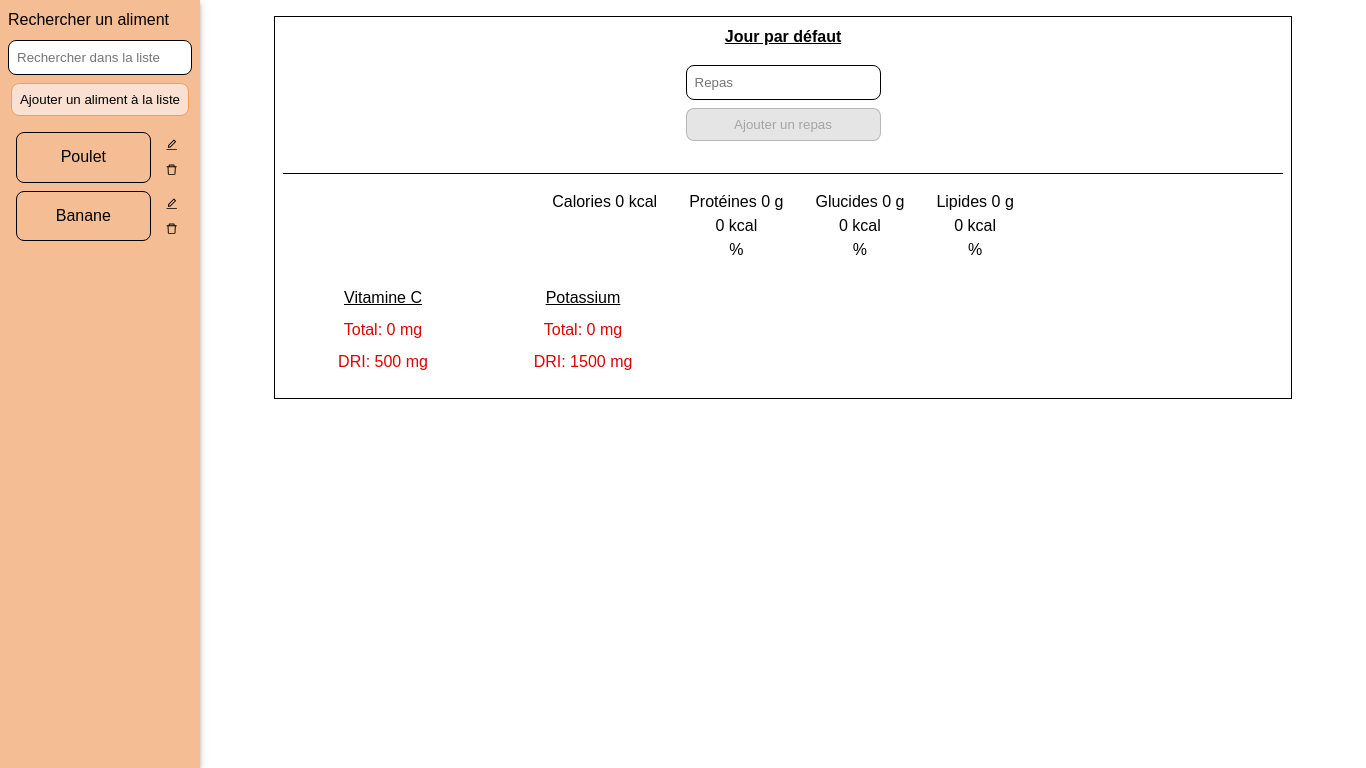
Scenario: Analyse › should disable add food to meal button if the selected food is deleted
Click the text "Banane": [83, 216] box left=56, top=204, right=111, bottom=228
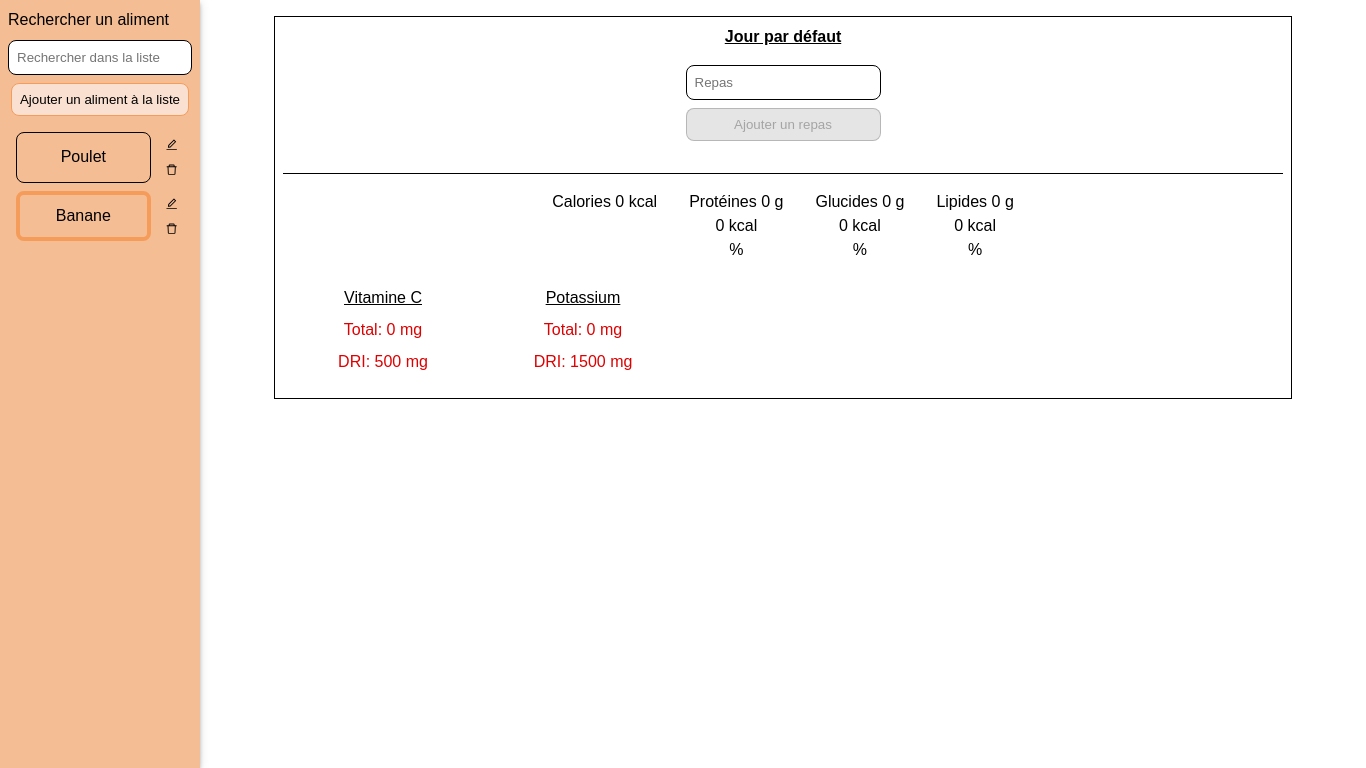
In the field labelled "Repas": [783, 82] box left=686, top=65, right=880, bottom=100, type "déjeuner"
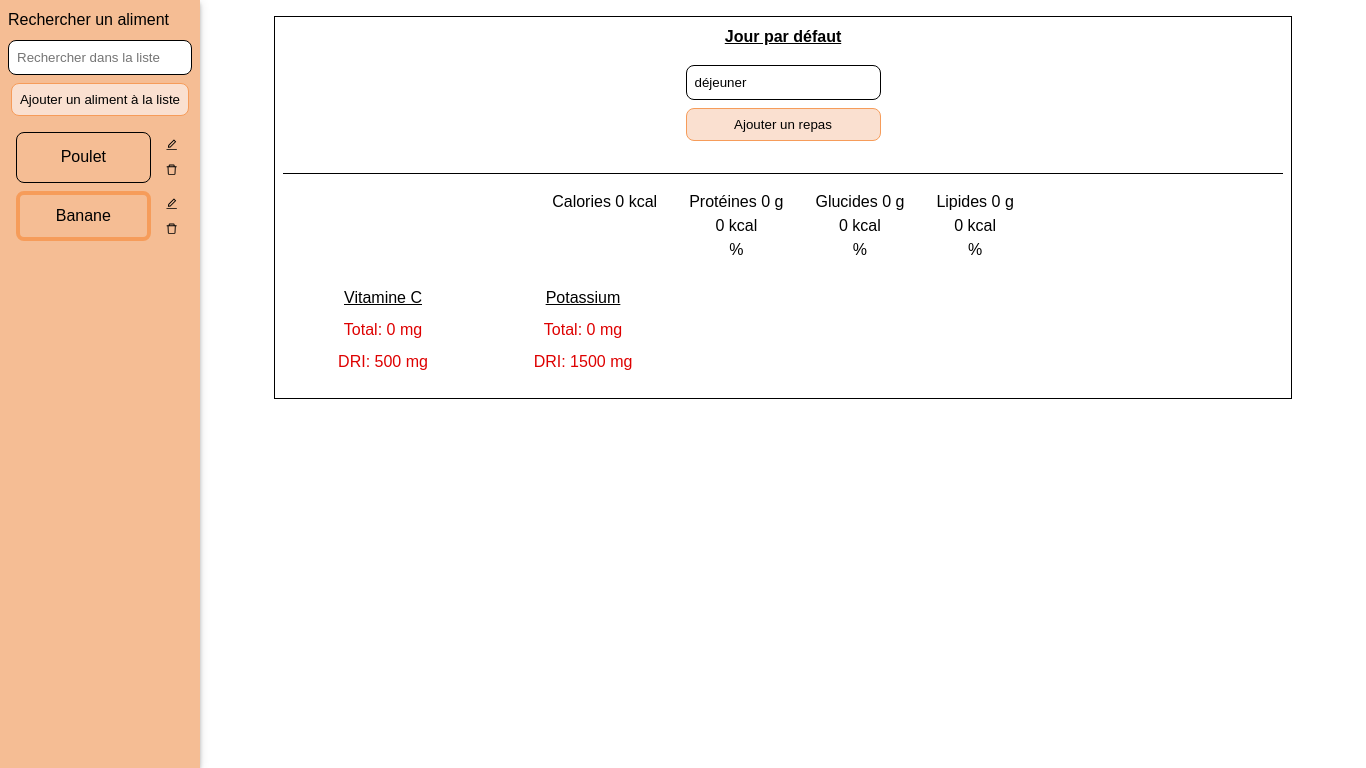
Click the button "Ajouter un repas": [783, 124] box left=686, top=108, right=880, bottom=141
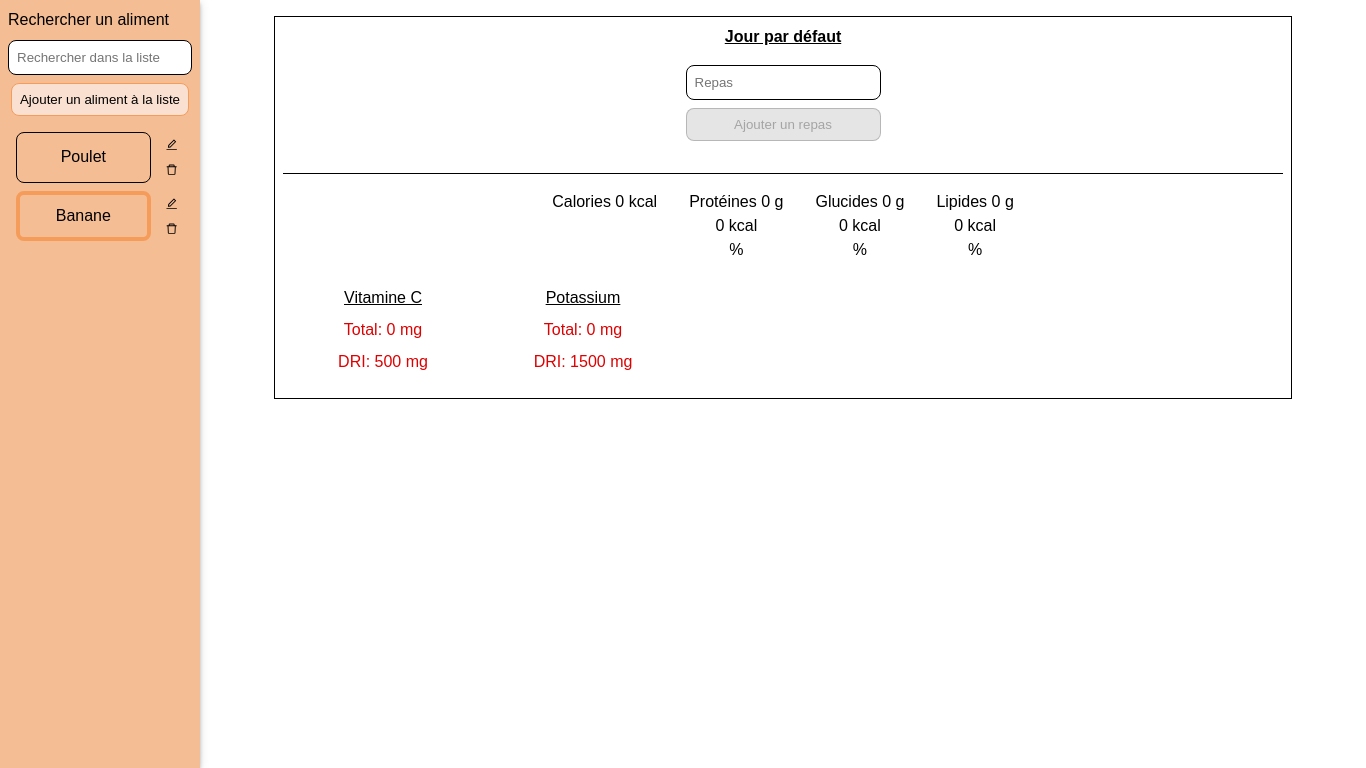
Click the button named "supprimer" next to "Banane": [171, 229] box left=159, top=216, right=184, bottom=241
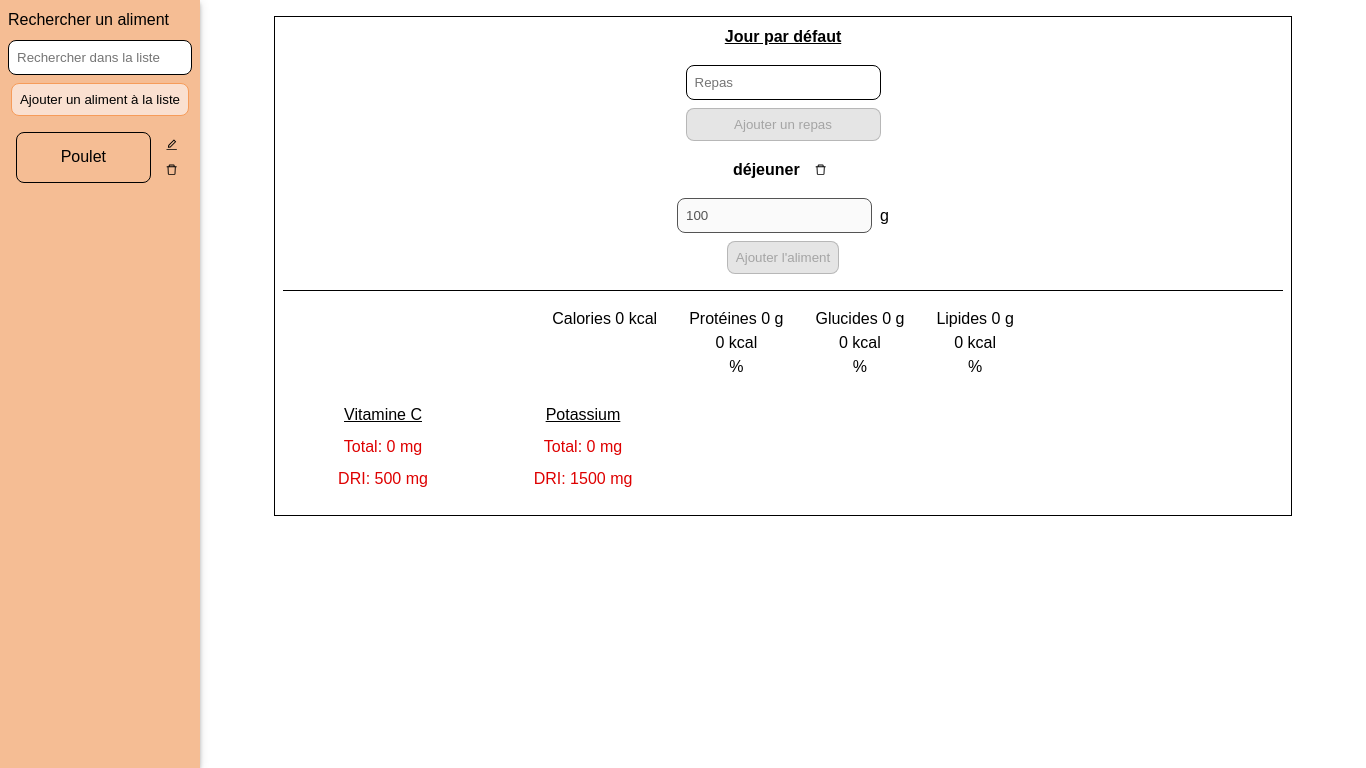
Now the button "Ajouter l'aliment" is disabled, box left=727, top=241, right=839, bottom=274
